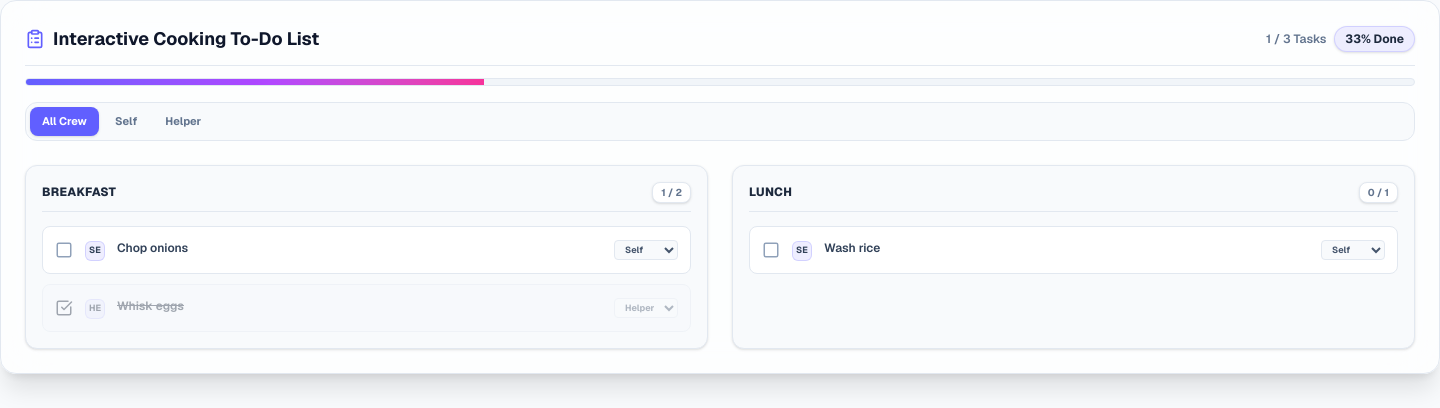
Test: CookingChecklist Component › filters task list by assignee
Expected: the text "Chop onions" is shown, [117,240,188,256]
Expected: the text "Whisk eggs" is shown, [117,298,184,314]
// Click on 'Helper' filter
Click the button "Helper" at (183, 121), box [153,107,213,136]
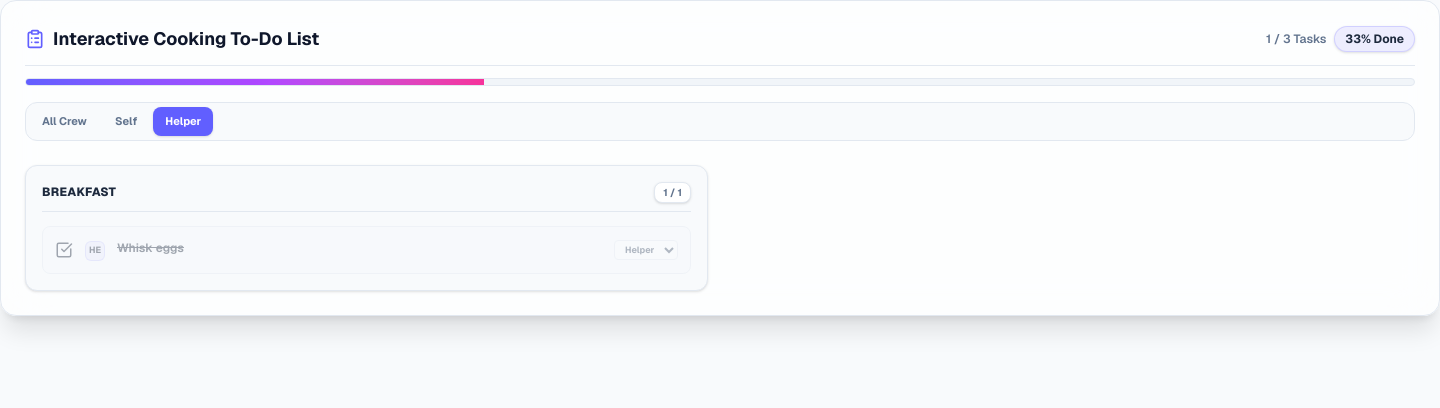
Expected: the text "Whisk eggs" is shown, [117,240,184,256]
Expected: the button "Chop onions" is gone
Expected: the button "Wash rice" is gone
